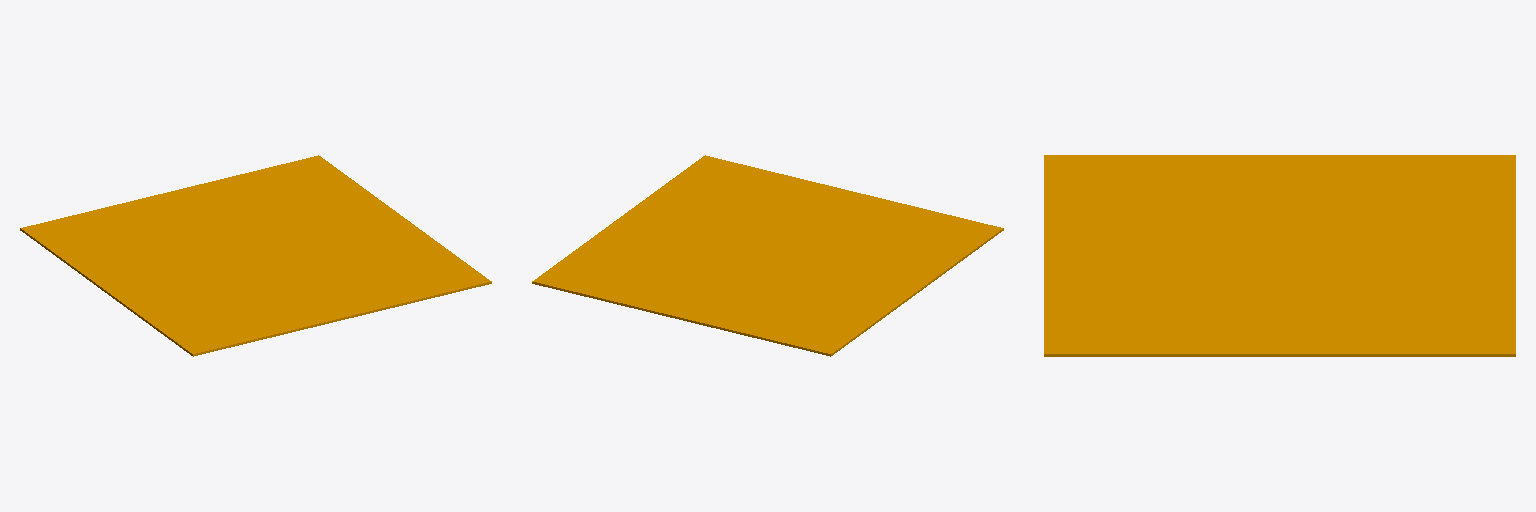
robot.urdf — board:
<?xml version="1.0" ?>
<robot name="board">
  <link name="base">
    <inertial>
      <origin rpy="0 0 0" xyz="0 0 0"/>
      <mass value=".1"/>
      <inertia ixx="0" ixy="0" ixz="0" iyy="0" iyz="0" izz="0"/>
    </inertial>
    <visual>
      <origin rpy="0 0 0" xyz="0 0 0"/>
      <geometry>
        <mesh filename="board.obj" scale="1 1 1"/>
      </geometry>
    </visual>
    <collision>
      <origin rpy="0 0 0" xyz="0 0 0"/>
      <geometry>
        <mesh filename="board.obj" scale="1 1 1"/>
      </geometry>
    </collision>
  </link>
</robot>

--- Facts derived from the render (not from the file) ---
Views: 3 orthographic renders of the robot side by side, from view 1: azimuth 30°, elevation 25°; view 2: azimuth 150°, elevation 25°; view 3: azimuth 270°, elevation 25°.
Model board with 1 links and 0 joints (none), rooted at base, posed all joints at 0.
Links seen in each view (by area): view 1: base; view 2: base; view 3: base.
Boxes of the visible links, bbox=[...] form: base: bbox=[20, 155, 491, 356]; base: bbox=[532, 155, 1003, 356]; base: bbox=[1044, 155, 1515, 356].
Bounding box of the posed robot: 0.2991 × 0.2991 × 0.0022 m (x, y, z).
Meshes: 1 distinct files referenced, 1 mesh visuals loaded (1 OBJ).